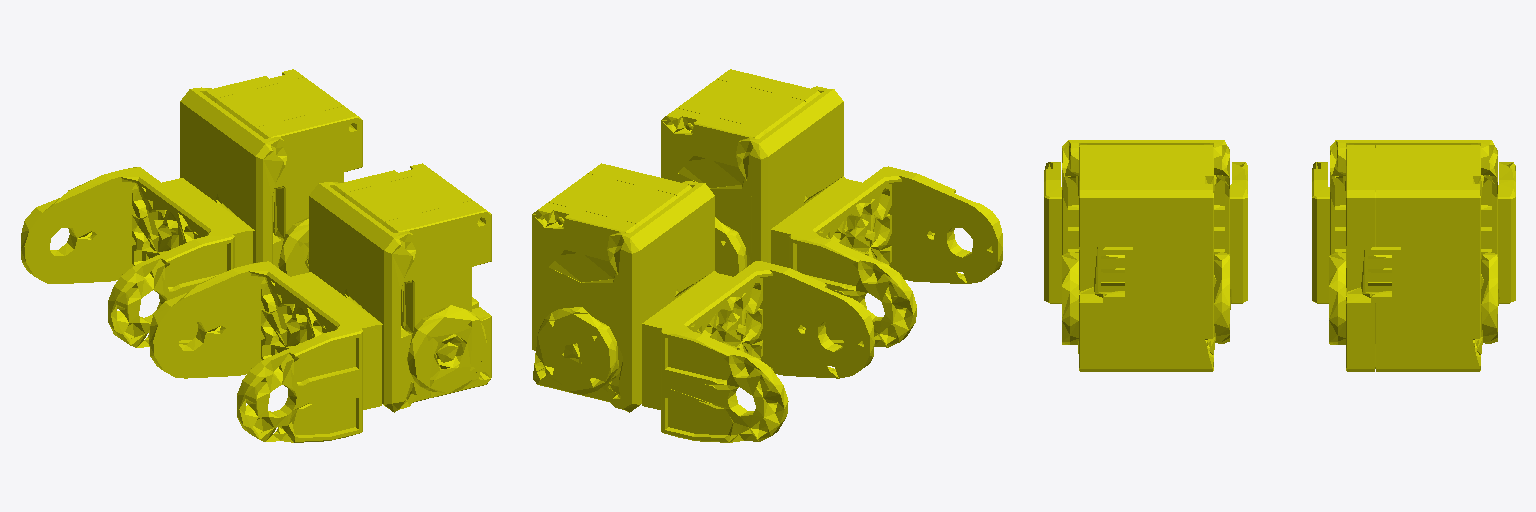
URDF robot description (onshape):
<robot name="onshape">






<link name="palm_lower">
<visual>
<origin xyz="-0.020095249652862544332 0.025757756134899473244 -0.034722403578460216134" rpy="0 -0 0" />
<geometry>
<mesh filename="palm_lower.stl"/>
</geometry>
<material name="palm_lower_material">
<color rgba="0.60392156862745094426 0.14901960784313725283 0.14901960784313725283 1.0"/>
</material>
</visual>
<collision>
<origin xyz="-0.020095249652862544332 0.025757756134899473244 -0.034722403578460216134" rpy="0 -0 0" />
<geometry>
<mesh filename="palm_lower.stl"/>
</geometry>
</collision>
<inertial>
<origin xyz="0 0 0" rpy="0 0 0"/>
<mass value="0.237" />
<inertia ixx="0.000354094" ixy="-0.000001193"  ixz="-0.000002445" iyy="0.000260915" iyz="-0.000002905" izz="0.000529257" />
</inertial>
</link>











<link name="mcp_joint_2">
<visual>
<origin xyz="0.0084069022611744960438 0.0077662438597169954416 0.014657354985032913786" rpy="1.6375789613220999807e-15 -1.0076465469034000467e-30 2.1209300131419907151e-61" />
<geometry>
<mesh filename="mcp_joint.stl"/>
</geometry>
<material name="mcp_joint_material">
<color rgba="0.86666666666666669627 0.86666666666666669627 0.050980392156862744391 1.0"/>
</material>
</visual>
<collision>
<origin xyz="0.0084069022611744960438 0.0077662438597169954416 0.014657354985032913786" rpy="1.6375789613220999807e-15 -1.0076465469034000467e-30 2.1209300131419907151e-61" />
<geometry>
<mesh filename="mcp_joint.stl"/>
</geometry>
</collision>
<inertial>
<origin xyz="0 0 0" rpy="0 0 0"/>
<mass value="0.044" />
<inertia ixx="0.000011499" ixy="0.000003049"  ixz="0.000000121" iyy="0.000007796" iyz="0.000000112" izz="0.000014759" />
</inertial>
</link>














<link name="pip_2">
<visual>
<origin xyz="0.0096433630922713280131 0.00029999999999999471534 0.00078403401041737645627" rpy="-1.570796326794896558 -1.570796326794896336 0" />
<geometry>
<mesh filename="pip.stl"/>
</geometry>
<material name="pip_material">
<color rgba="0.74901960784313725839 0.74901960784313725839 0.74901960784313725839 1.0"/>
</material>
</visual>
<collision>
<origin xyz="0.0096433630922713280131 0.00029999999999999471534 0.00078403401041737645627" rpy="-1.570796326794896558 -1.570796326794896336 0" />
<geometry>
<mesh filename="pip.stl"/>
</geometry>
</collision>
<inertial>
<origin xyz="0 0 0" rpy="0 0 0"/>
<mass value="0.032" />
<inertia ixx="0.000004798" ixy="0.000000012"  ixz="0.000000004" iyy="0.000002862" iyz="0.000000011" izz="0.000004234" />
</inertial>
</link>






















<link name="dip_2">
<visual>
<origin xyz="0.021133352895225002849 -0.0084321191467048653423 0.0097850881620952373519" rpy="-3.141592653589793116 2.1146933785271955805e-32 1.4408183216511868558e-31" />
<geometry>
<mesh filename="dip.stl"/>
</geometry>
<material name="dip_material">
<color rgba="0.86666666666666669627 0.86666666666666669627 0.050980392156862744391 1.0"/>
</material>
</visual>
<collision>
<origin xyz="0.021133352895225002849 -0.0084321191467048653423 0.0097850881620952373519" rpy="-3.141592653589793116 2.1146933785271955805e-32 1.4408183216511868558e-31" />
<geometry>
<mesh filename="dip.stl"/>
</geometry>
</collision>
<inertial>
<origin xyz="0 0 0" rpy="0 0 0"/>
<mass value="0.037" />
<inertia ixx="0.000005542" ixy="-0.000000607"  ixz="-0.000000017" iyy="0.000005727" iyz="-0.000000023" izz="0.000006682" />
</inertial>
</link>























<link name="fingertip_2">
<visual>
<origin xyz="0.01328642410853349623 -0.0061142383865420008027 0.014499999999999495931" rpy="3.141592653589793116 -4.3179597882835943107e-33 1.4408183216511868558e-31" />
<geometry>
<mesh filename="fingertip.stl"/>
</geometry>
<material name="fingertip_material">
<color rgba="0.86666666666666669627 0.86666666666666669627 0.050980392156862744391 1.0"/>
</material>
</visual>
<collision>
<origin xyz="0.01328642410853349623 -0.0061142383865420008027 0.014499999999999495931" rpy="3.141592653589793116 -4.3179597882835943107e-33 1.4408183216511868558e-31" />
<geometry>
<mesh filename="fingertip.stl"/>
</geometry>
</collision>
<inertial>
<origin xyz="0 0 0" rpy="0 0 0"/>
<mass value="0.016" />
<inertia ixx="0.000003368" ixy="0.000000115"  ixz="0" iyy="0.000001556" iyz="0" izz="0.000002863" />
</inertial>
</link>












<joint name="4" type="revolute">
<origin xyz="-0.012200000000000019856 0.038099999999999981104 0.01450000000000000594" rpy="-1.570796326794896558 -1.0065212760057939085e-15 1.5707963267948943376" />
<parent link="mcp_joint_2" />
<child link="pip_2" />
<axis xyz="0 0 -1"/>
<limit effort="0.95" velocity="8.48" lower = "-1.047" upper = "1.047"/>
<joint_properties friction="0.0"/>
</joint>










<joint name="5" type="revolute">
<origin xyz="-0.0070952496528625388569 -0.022392243865100525113 -0.018722403578460229678" rpy="1.570796326794896558 1.570796326794896558 0" />
<parent link="palm_lower" />
<child link="mcp_joint_2" />
<axis xyz="0 0 -1"/>
<limit effort="0.95" velocity="8.48" lower = "-0.314" upper = "2.23"/>
<joint_properties friction="0.0"/>
</joint>











<joint name="6" type="revolute">
<origin xyz="0.014999999999999975159 0.014300000000000000211 -0.013000000000000018485" rpy="1.5707963267948958919 -1.570796326794896336 0" />
<parent link="pip_2" />
<child link="dip_2" />
<axis xyz="0 0 -1"/>
<limit effort="0.95" velocity="8.48" lower = "-0.506" upper = "1.885"/>  
<joint_properties friction="0.0"/>
</joint>












<joint name="7" type="revolute">
<origin xyz="1.0061396160665481148e-16 -0.036099999999999854428 0.00020000000000007858714" rpy="4.5935029425113654229e-17 -2.8730071914463794583e-16 1.4408183216511868558e-31" />
<parent link="dip_2" />
<child link="fingertip_2" />
<axis xyz="0 0 -1"/>
<limit effort="0.95" velocity="8.48" lower = "-0.366" upper = "2.042"/>   
<joint_properties friction="0.0"/>
</joint>














<link name="mcp_joint_3">
<visual>
<origin xyz="0.0084069022611744995133 0.0077662438597169963089 0.014657354985032913786" rpy="1.6375789613220999807e-15 -1.0059504988632626953e-30 5.729641584552035421e-32" />
<geometry>
<mesh filename="mcp_joint.stl"/>
</geometry>
<material name="mcp_joint_material">
<color rgba="0.86666666666666669627 0.86666666666666669627 0.050980392156862744391 1.0"/>
</material>
</visual>
<collision>
<origin xyz="0.0084069022611744995133 0.0077662438597169963089 0.014657354985032913786" rpy="1.6375789613220999807e-15 -1.0059504988632626953e-30 5.729641584552035421e-32" />
<geometry>
<mesh filename="mcp_joint.stl"/>
</geometry>
</collision>
<inertial>
<origin xyz="0 0 0" rpy="0 0 0"/>
<mass value="0.044" />
<inertia ixx="0.000011499" ixy="0.000003049"  ixz="0.000000121" iyy="0.000007796" iyz="0.000000112" izz="0.000014759" />
</inertial>
</link>
















<link name="pip_3">
<visual>
<origin xyz="0.0096433630922713314826 0.00029999999999998083755 0.00078403401041737645627" rpy="-1.570796326794896558 -1.570796326794896336 0" />
<geometry>
<mesh filename="pip.stl"/>
</geometry>
<material name="pip_material">
<color rgba="0.74901960784313725839 0.74901960784313725839 0.74901960784313725839 1.0"/>
</material>
</visual>
<collision>
<origin xyz="0.0096433630922713314826 0.00029999999999998083755 0.00078403401041737645627" rpy="-1.570796326794896558 -1.570796326794896336 0" />
<geometry>
<mesh filename="pip.stl"/>
</geometry>
</collision>
<inertial>
<origin xyz="0 0 0" rpy="0 0 0"/>
<mass value="0.032" />
<inertia ixx="0.000004798" ixy="0.000000012"  ixz="0.000000004" iyy="0.000002862" iyz="0.000000011" izz="0.000004234" />
</inertial>
</link>














<link name="dip_3">
<visual>
<origin xyz="0.021133352895225006318 -0.0084321191467048653423 0.0097850881620952373519" rpy="-3.141592653589793116 -1.4095651113919093005e-33 1.5565411607615035382e-32" />
<geometry>
<mesh filename="dip.stl"/>
</geometry>
<material name="dip_material">
<color rgba="0.86666666666666669627 0.86666666666666669627 0.050980392156862744391 1.0"/>
</material>
</visual>
<collision>
<origin xyz="0.021133352895225006318 -0.0084321191467048653423 0.0097850881620952373519" rpy="-3.141592653589793116 -1.4095651113919093005e-33 1.5565411607615035382e-32" />
<geometry>
<mesh filename="dip.stl"/>
</geometry>
</collision>
<inertial>
<origin xyz="0 0 0" rpy="0 0 0"/>
<mass value="0.037" />
<inertia ixx="0.000005542" ixy="-0.000000607"  ixz="-0.000000017" iyy="0.000005727" iyz="-0.000000023" izz="0.000006682" />
</inertial>
</link>













<link name="fingertip_3">
<visual>
<origin xyz="0.013286424108533501434 -0.0061142383865419869249 0.0144999999999994994" rpy="3.141592653589793116 8.6170716950575402125e-33 1.5565411607615035382e-32" />
<geometry>
<mesh filename="fingertip.stl"/>
</geometry>
<material name="fingertip_material">
<color rgba="0.86666666666666669627 0.86666666666666669627 0.050980392156862744391 1.0"/>
</material>
</visual>
<collision>
<origin xyz="0.013286424108533501434 -0.0061142383865419869249 0.0144999999999994994" rpy="3.141592653589793116 8.6170716950575402125e-33 1.5565411607615035382e-32" />
<geometry>
<mesh filename="fingertip.stl"/>
</geometry>
</collision>
<inertial>
<origin xyz="0 0 0" rpy="0 0 0"/>
<mass value="0.016" />
<inertia ixx="0.000003368" ixy="0.000000115"  ixz="0" iyy="0.000001556" iyz="0" izz="0.000002863" />
</inertial>
</link>
















<joint name="8" type="revolute">
<origin xyz="-0.012200000000000004244 0.038100000000000001921 0.014499999999999999001" rpy="-1.570796326794896558 -1.0065212660796360242e-15 1.5707963267948943376" />
<parent link="mcp_joint_3" />
<child link="pip_3" />
<axis xyz="0 0 -1"/>
<limit effort="0.95" velocity="8.48" lower = "-1.047" upper = "1.047"/>
<joint_properties friction="0.0"/>
</joint>















<joint name="9" type="revolute">
<origin xyz="-0.0070952454426398371343 -0.067842243865100515521 -0.018722407666402932774" rpy="1.5707963267948950037 1.5707963267948945596 0" />
<parent link="palm_lower" />
<child link="mcp_joint_3" />
<axis xyz="0 0 -1"/>
<limit effort="0.95" velocity="8.48" lower = "-0.314" upper = "2.23"/>
<joint_properties friction="0.0"/>
</joint>












<joint name="10" type="revolute">
<origin xyz="0.014999999999999971689 0.014299999999999951639 -0.012999999999999959505" rpy="1.5707963267948958919 -1.570796326794896336 0" />
<parent link="pip_3" />
<child link="dip_3" />
<axis xyz="0 0 -1"/>
<limit effort="0.95" velocity="8.48" lower = "-0.506" upper = "1.885"/>  
<joint_properties friction="0.0"/>
</joint>















<joint name="11" type="revolute">
<origin xyz="9.7144514654701197287e-17 -0.036099999999999868305 0.00020000000000007511769" rpy="4.5935029425113685044e-17 -2.8730071914463799514e-16 1.5565411607615035382e-32" />
<parent link="dip_3" />
<child link="fingertip_3" />
<axis xyz="0 0 -1"/>
<limit effort="0.95" velocity="8.48" lower = "-0.366" upper = "2.042"/>   
<joint_properties friction="0.0"/>
</joint>











<link name="pip_4">
<visual>
<origin xyz="-0.0053566369077286714317 0.00029999999999999991951 0.00078403401041737819099" rpy="-1.570796326794896558 -1.570796326794896336 0" />
<geometry>
<mesh filename="pip.stl"/>
</geometry>
<material name="pip_material">
<color rgba="0.74901960784313725839 0.74901960784313725839 0.74901960784313725839 1.0"/>
</material>
</visual>
<collision>
<origin xyz="-0.0053566369077286714317 0.00029999999999999991951 0.00078403401041737819099" rpy="-1.570796326794896558 -1.570796326794896336 0" />
<geometry>
<mesh filename="pip.stl"/>
</geometry>
</collision>
<inertial>
<origin xyz="0 0 0" rpy="0 0 0"/>
<mass value="0.032" />
<inertia ixx="0.000004798" ixy="0.000000012"  ixz="0.000000004" iyy="0.000002862" iyz="0.000000011" izz="0.000004234" />
</inertial>
</link>
















<link name="thumb_pip">
<visual>
<origin xyz="0.011961920770611186859 -5.3082538364890297089e-16 -0.015852648956664199681" rpy="1.570796326794896558 1.6050198443300152637e-46 -3.9204996250525192755e-59" />
<geometry>
<mesh filename="thumb_pip.stl"/>
</geometry>
<material name="thumb_pip_material">
<color rgba="0.86666666666666669627 0.86666666666666669627 0.050980392156862744391 1.0"/>
</material>
</visual>
<collision>
<origin xyz="0.011961920770611186859 -5.3082538364890297089e-16 -0.015852648956664199681" rpy="1.570796326794896558 1.6050198443300152637e-46 -3.9204996250525192755e-59" />
<geometry>
<mesh filename="thumb_pip.stl"/>
</geometry>
</collision>
<inertial>
<origin xyz="0 0 0" rpy="0 0 0"/>
<mass value="0.003" />
<inertia ixx="0.000000593" ixy="0"  ixz="0" iyy="0.000000549" iyz="0" izz="0.000000224" />
</inertial>
</link>















<link name="thumb_dip">
<visual>
<origin xyz="0.043968715707239175439 0.057952952973709198625 -0.0086286764493694757122" rpy="1.9428902930940098942e-16 3.2751579226442200773e-15 1.1123758529657360012e-46" />
<geometry>
<mesh filename="thumb_dip.stl"/>
</geometry>
<material name="thumb_dip_material">
<color rgba="0.86666666666666669627 0.86666666666666669627 0.050980392156862744391 1.0"/>
</material>
</visual>
<collision>
<origin xyz="0.043968715707239175439 0.057952952973709198625 -0.0086286764493694757122" rpy="1.9428902930940098942e-16 3.2751579226442200773e-15 1.1123758529657360012e-46" />
<geometry>
<mesh filename="thumb_dip.stl"/>
</geometry>
</collision>
<inertial>
<origin xyz="0 0 0" rpy="0 0 0"/>
<mass value="0.038" />
<inertia ixx="0.000008474" ixy="0.000000241"  ixz="0.000000026" iyy="0.000003841" iyz="0.000000025" izz="0.000007679" />
</inertial>
</link>














<link name="thumb_fingertip">
<visual>
<origin xyz="0.062559538462667388381 0.078459682911396988469 0.048992911807332215068" rpy="4.3790577010156367543e-47 -3.3306690738754701143e-16 1.2042408677791935383e-46" />
<geometry>
<mesh filename="thumb_fingertip.stl"/>
</geometry>
<material name="thumb_fingertip_material">
<color rgba="0.60392156862745094426 0.14901960784313725283 0.14901960784313725283 1.0"/>
</material>
</visual>
<collision>
<origin xyz="0.062559538462667388381 0.078459682911396988469 0.048992911807332215068" rpy="4.3790577010156367543e-47 -3.3306690738754701143e-16 1.2042408677791935383e-46" />
<geometry>
<mesh filename="thumb_fingertip.stl"/>
</geometry>
</collision>
<inertial>
<origin xyz="0 0 0" rpy="0 0 0"/>
<mass value="0.049" />
<inertia ixx="0.000020372" ixy="-0.000000489"  ixz="-0.00000003" iyy="0.000004336" iyz="-0.000000097" izz="0.000019845" />
</inertial>
</link>














<joint name="12" type="revolute">
<origin xyz="-0.069395249652862533996 -0.0012422438651005258004 -0.021622403578460215601" rpy="-8.2381766464939424156e-17 1.5707963267948956698 0" />
<parent link="palm_lower" />
<child link="pip_4" />
<axis xyz="0 0 -1"/>
<limit effort="0.95" velocity="8.48" lower = "-0.349" upper = "2.094"/> 
<joint_properties friction="0.0"/>
</joint>












<joint name="13" type="revolute">
<origin xyz="-2.7755575615628913511e-17 0.014300000000000005415 -0.013000000000000011546" rpy="1.5707963267948958919 -1.570796326794896336 0" />
<parent link="pip_4" />
<child link="thumb_pip" />
<axis xyz="0 0 -1"/>
<limit effort="0.95" velocity="8.48" lower = "-0.47" upper = "2.443"/> 
<joint_properties friction="0.0"/>
</joint>












<joint name="14" type="revolute">
<origin xyz="0 0.014499999999999966041 -0.017000000000000053263" rpy="-1.570796326794896558 1.6050198443300131245e-46 -1.9721522630516624601e-31" />
<parent link="thumb_pip" />
<child link="thumb_dip" />
<axis xyz="0 0 -1"/>
<limit effort="0.95" velocity="8.48" lower = "-1.20" upper = "1.90"/> 
<joint_properties friction="0.0"/>
</joint>















<joint name="15" type="revolute">
<origin xyz="-1.249000902703301108e-16 0.046599999999999863753 0.00019999999999997710581" rpy="1.5063958491491781023e-44 5.4234187233935260503e-31 3.141592653589793116" />
<parent link="thumb_dip" />
<child link="thumb_fingertip" />
<axis xyz="0 0 -1"/>
<limit effort="0.95" velocity="8.48" lower = "-1.34" upper = "1.88"/> 
<joint_properties friction="0.0"/>
</joint>

</robot>

--- What the picture shows (computed from the rendered views, not written in the file) ---
The picture shows the robot from 3 angles, left to right: view 1: azimuth 30°, elevation 25°; view 2: azimuth 150°, elevation 25°; view 3: azimuth 270°, elevation 25°; orthographic projection.
Model onshape with 13 links and 12 joints (12 revolute), rooted at palm_lower, posed every joint at zero.
Visible links, largest first — view 1: dip_3, dip_2; view 2: dip_2, dip_3; view 3: dip_2, dip_3.
Boxes of the visible links, x1,y1,x2,y2 form: dip_3: (149,163,491,442); dip_2: (21,69,362,347); dip_2: (532,163,874,442); dip_3: (661,69,1002,347); dip_2: (1312,140,1515,371); dip_3: (1044,140,1247,371).
Bounding box of the posed robot: 0.054 × 0.08 × 0.0345 m (x, y, z).
Meshes: 8 distinct files referenced, 2 mesh visuals loaded (1 binary STL); not drawn: 11 (reference not matched to a file when rendering).